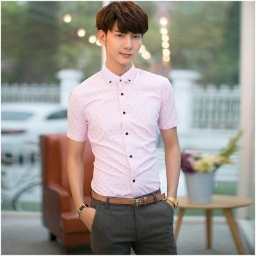face: (96, 1, 149, 67)
